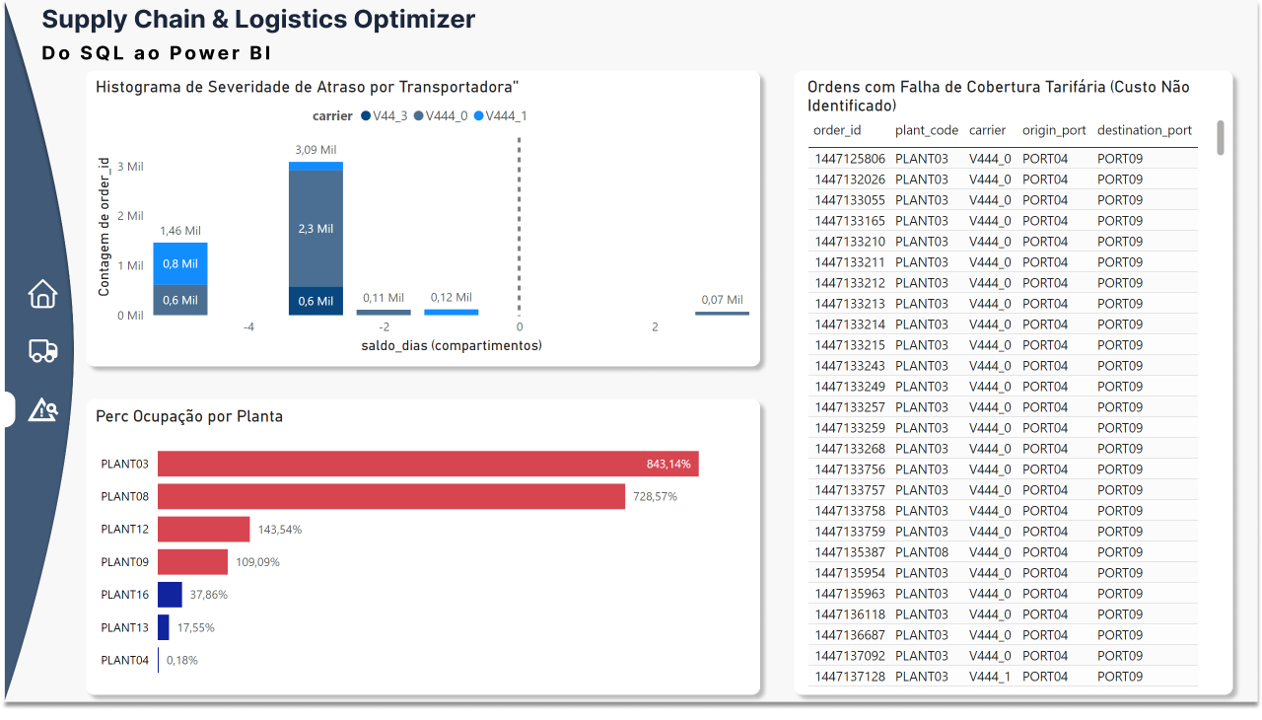

Layout of this report page (visuals, bound fields, positions):
{"tool":"powerbi","page":{"name":"Auditoria e Gestão de Riscos","canvas":[1280,720],"ordinal":2},"visuals":[{"type":"tableEx","title":"Ordens com Falha de Cobertura Tarifária (Custo Não Identificado)","fields":{"Values":["public orderlist.order_id","public orderlist.plant_code","public orderlist.carrier","public orderlist.origin_port","public orderlist.destination_port"]},"box":[813.5,78,433.7,623.6],"z":0},{"type":"columnChart","title":"Histograma de Severidade de Atraso por Transportadora\"","fields":{"Category":["public vw_performance_sla.saldo_dias (compartimentos)"],"Y":["Count(public vw_performance_sla.order_id)"],"Series":["public vw_performance_sla.carrier"]},"box":[92.1,78,673.2,284.9],"z":1000},{"type":"barChart","title":"Perc Ocupação por Planta","fields":{"Category":["public vw_analise_capacidade.plant_code"],"Y":["Sum(public vw_analise_capacidade.perc_ocupacao)"]},"box":[92.1,412.4,673.2,289.1],"z":2000},{"type":"pageNavigator","box":[18.1,267.6,50.6,182.6],"z":3000}]}

Visuals, with their boxes on the page's 1280x720 design canvas (x1, y1, x2, y2). These are canvas units, not pixel positions in the 1262x720 screenshot, which may show the page scaled, cropped or inside an application window:
"Ordens com Falha de Cobertura Tarifária (Custo Não Identificado)" tableEx: region(814, 78, 1247, 702)
"Histograma de Severidade de Atraso por Transportadora"" columnChart: region(92, 78, 765, 363)
"Perc Ocupação por Planta" barChart: region(92, 412, 765, 702)
pageNavigator: region(18, 268, 69, 450)
